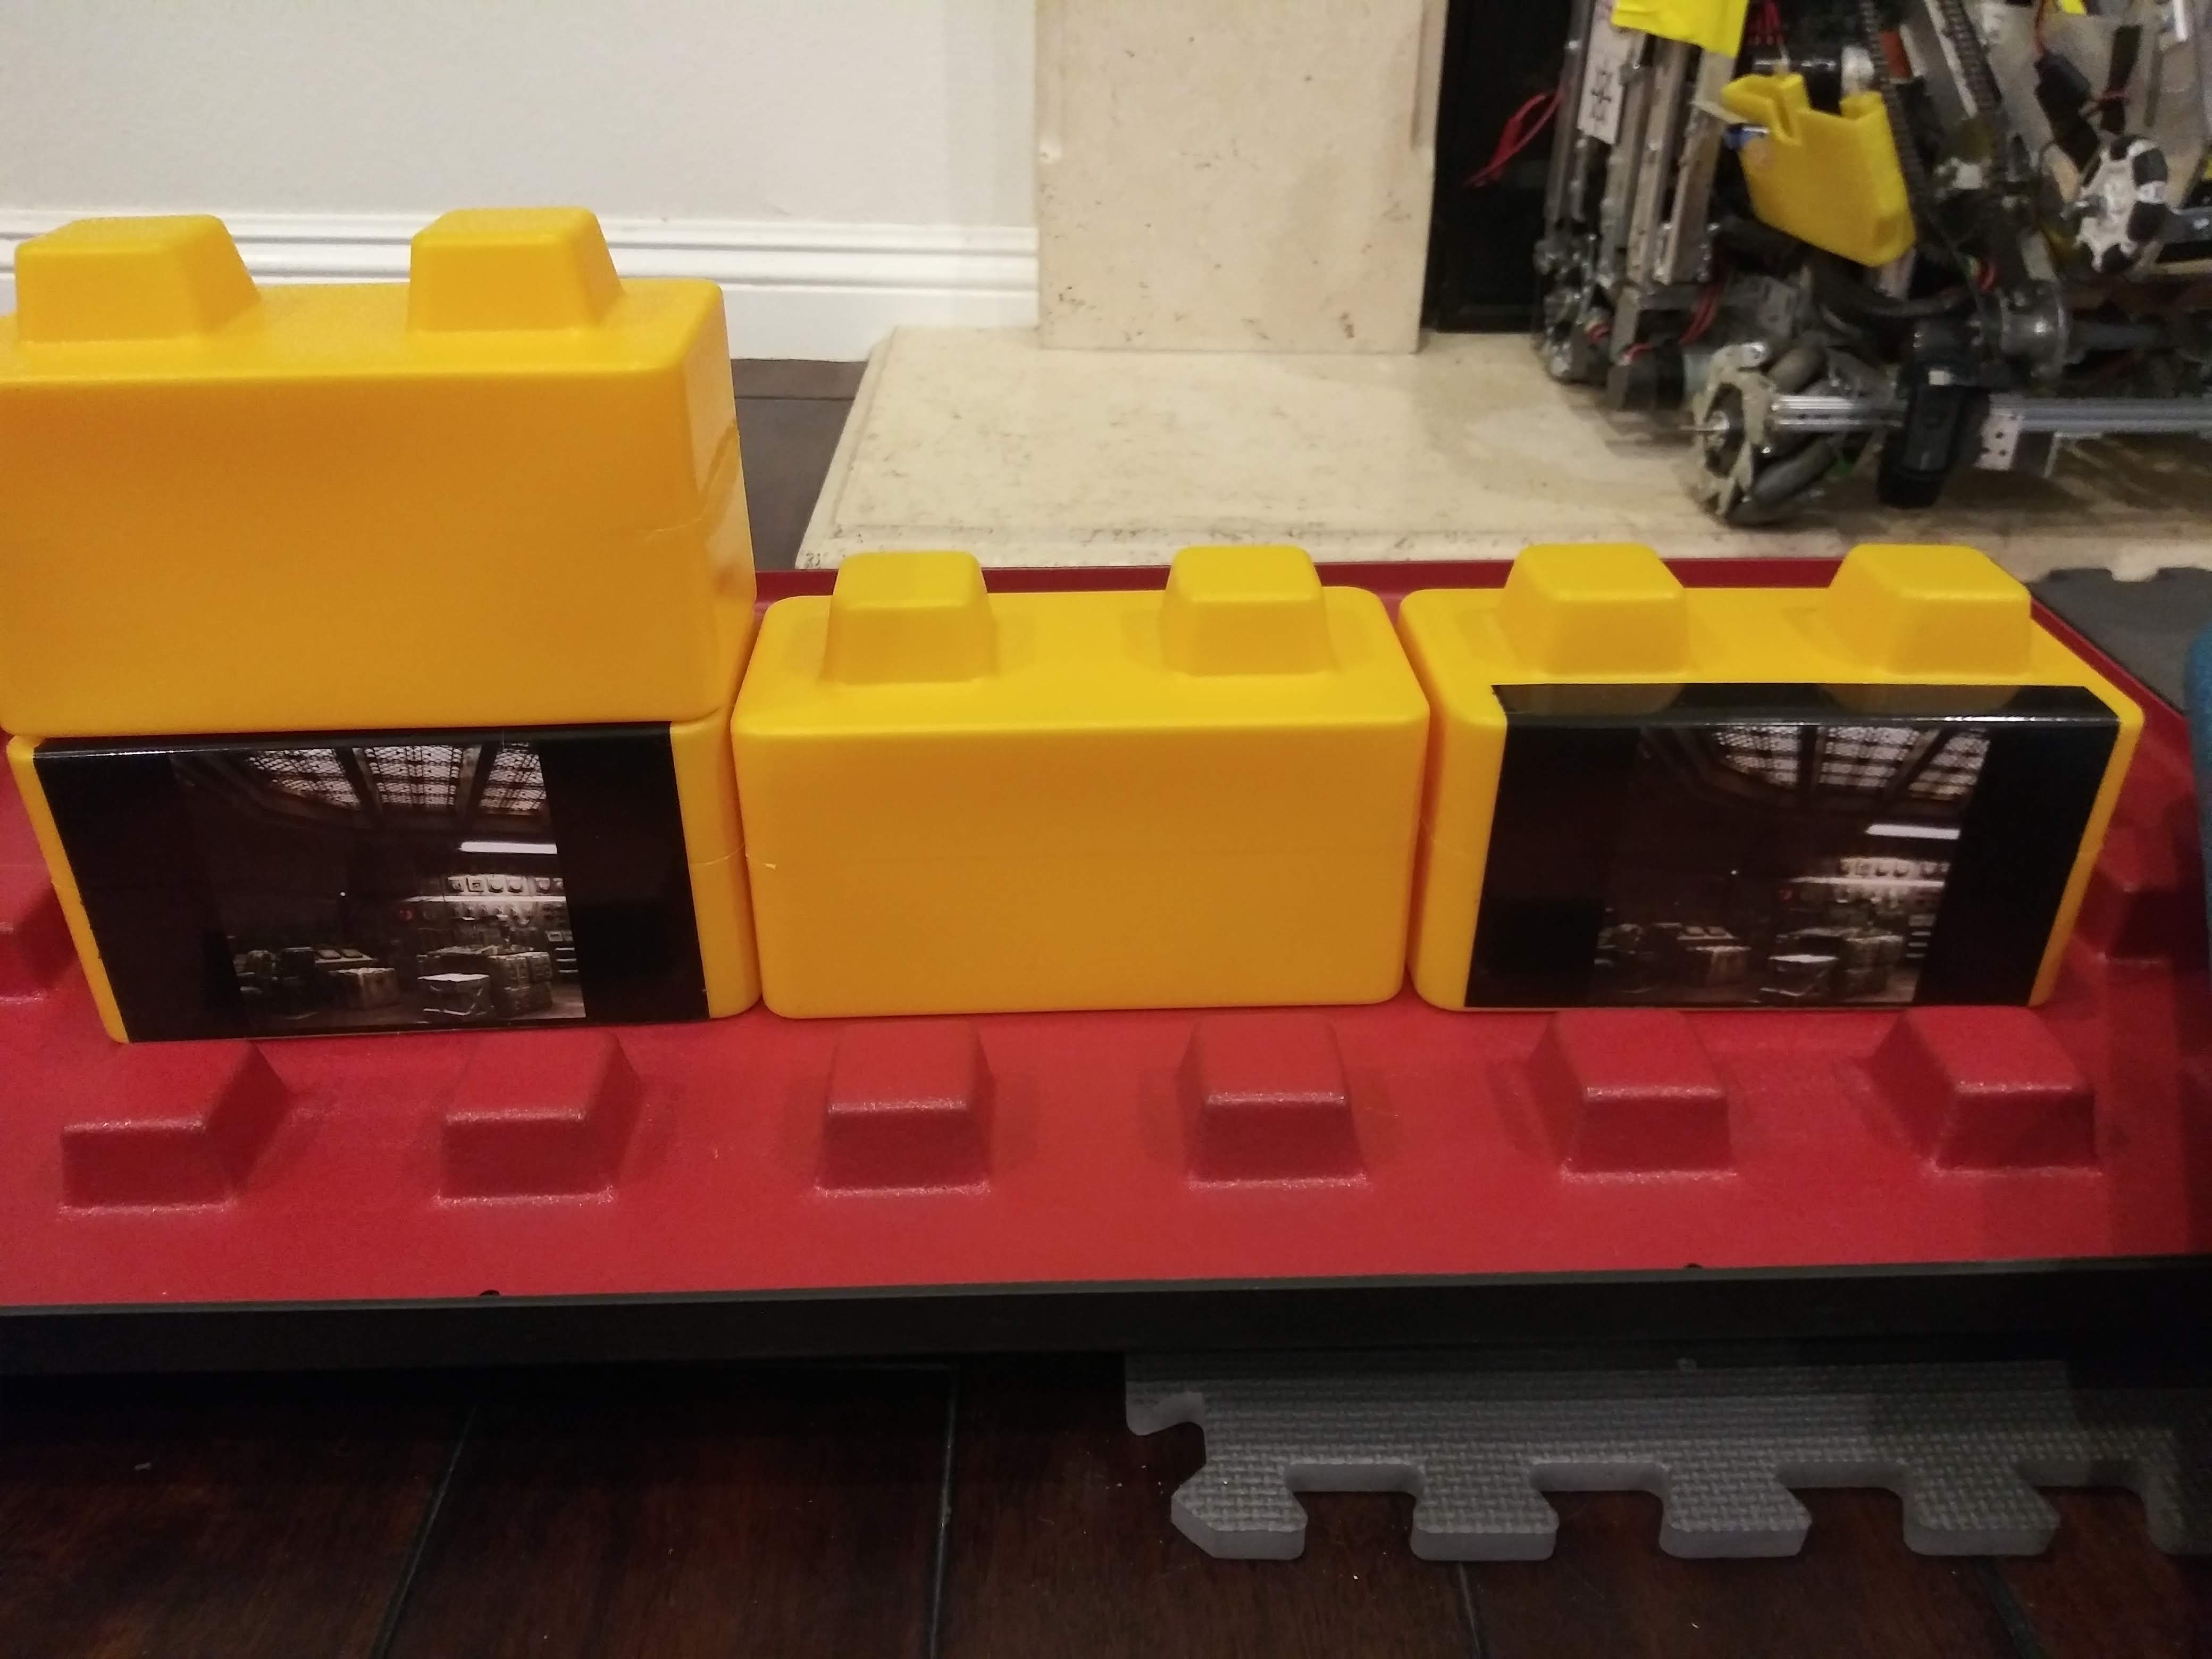skystone: (1439, 615, 2078, 1014), (19, 744, 728, 1051)
stone: (9, 247, 737, 709), (751, 608, 1406, 1019)
